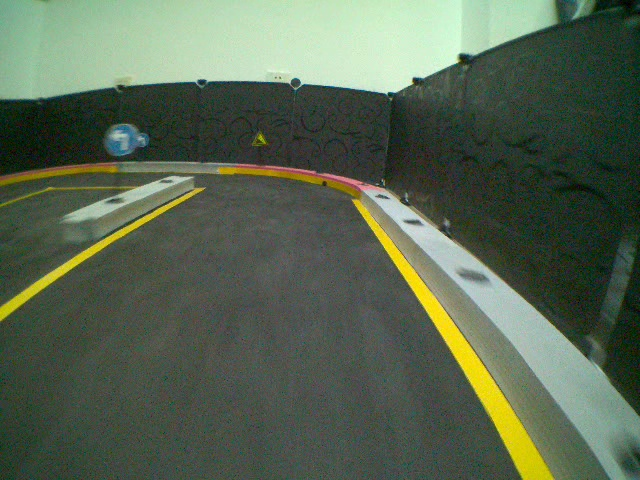fast: (252, 132, 267, 148)
turn: (102, 123, 136, 154), (134, 131, 149, 149)
